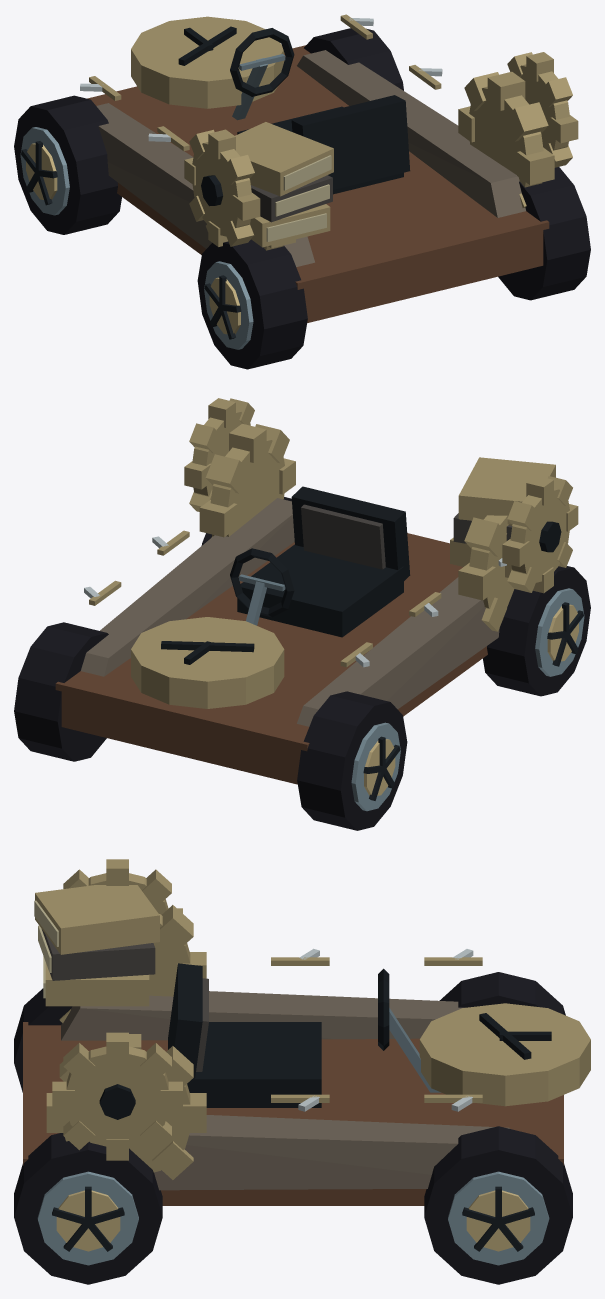
Rendered from kart.glb.
3 views of the same model, one above another, from view 1: azimuth 30°, elevation 25°; view 2: azimuth 150°, elevation 25°; view 3: azimuth 270°, elevation 25° (orthographic). The views are drawn at different scales.
Parts seen in each view (by area): view 1: identity-clockwork-clockwork-brass-escapement, wheel-rear-left, wheel-front-left, identity-clockwork-motif-gears, identity-clockwork-driver-cockpit, identity-clockwork-motif-books, wheel-rear-right, wheel-front-right, identity-clockwork-motif-runes; view 2: identity-clockwork-clockwork-brass-escapement, identity-clockwork-driver-cockpit, wheel-front-left, identity-clockwork-motif-gears, wheel-rear-left, wheel-front-right, identity-clockwork-motif-books, identity-clockwork-motif-runes; view 3: identity-clockwork-clockwork-brass-escapement, wheel-front-right, wheel-rear-right, identity-clockwork-driver-cockpit, identity-clockwork-motif-gears, identity-clockwork-motif-books, wheel-front-left, identity-clockwork-motif-runes, wheel-rear-left.
Part boxes in pixels (left/top/right/bottom): identity-clockwork-clockwork-brass-escapement: left=87, top=16, right=554, bottom=322; wheel-rear-left: left=197, top=239, right=307, bottom=369; wheel-front-left: left=14, top=95, right=121, bottom=234; identity-clockwork-motif-gears: left=184, top=52, right=578, bottom=246; identity-clockwork-driver-cockpit: left=230, top=28, right=410, bottom=194; identity-clockwork-motif-books: left=235, top=122, right=333, bottom=247; wheel-rear-right: left=498, top=167, right=590, bottom=300; wheel-front-right: left=304, top=28, right=403, bottom=90; identity-clockwork-motif-runes: left=80, top=14, right=442, bottom=151; identity-clockwork-clockwork-brass-escapement: left=55, top=423, right=514, bottom=784; identity-clockwork-driver-cockpit: left=230, top=486, right=410, bottom=637; wheel-front-left: left=297, top=691, right=407, bottom=830; identity-clockwork-motif-gears: left=184, top=398, right=578, bottom=593; wheel-rear-left: left=483, top=566, right=590, bottom=696; wheel-front-right: left=14, top=622, right=108, bottom=761; identity-clockwork-motif-books: left=450, top=457, right=555, bottom=577; identity-clockwork-motif-runes: left=84, top=530, right=506, bottom=667; identity-clockwork-clockwork-brass-escapement: left=23, top=905, right=590, bottom=1205; wheel-front-right: left=424, top=1126, right=572, bottom=1284; wheel-rear-right: left=14, top=1133, right=162, bottom=1284; identity-clockwork-driver-cockpit: left=168, top=963, right=440, bottom=1107; identity-clockwork-motif-gears: left=52, top=859, right=182, bottom=1160; identity-clockwork-motif-books: left=34, top=885, right=159, bottom=1006; wheel-front-left: left=439, top=972, right=565, bottom=1015; identity-clockwork-motif-runes: left=271, top=948, right=482, bottom=1111; wheel-rear-left: left=14, top=988, right=72, bottom=1092.
Bounding box in the file's own units: 1.99 × 1.2 × 2.56.
